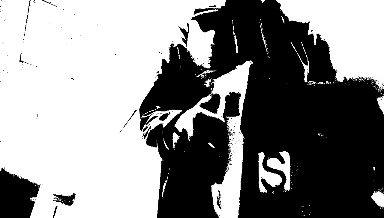S: (258, 152, 289, 188)
